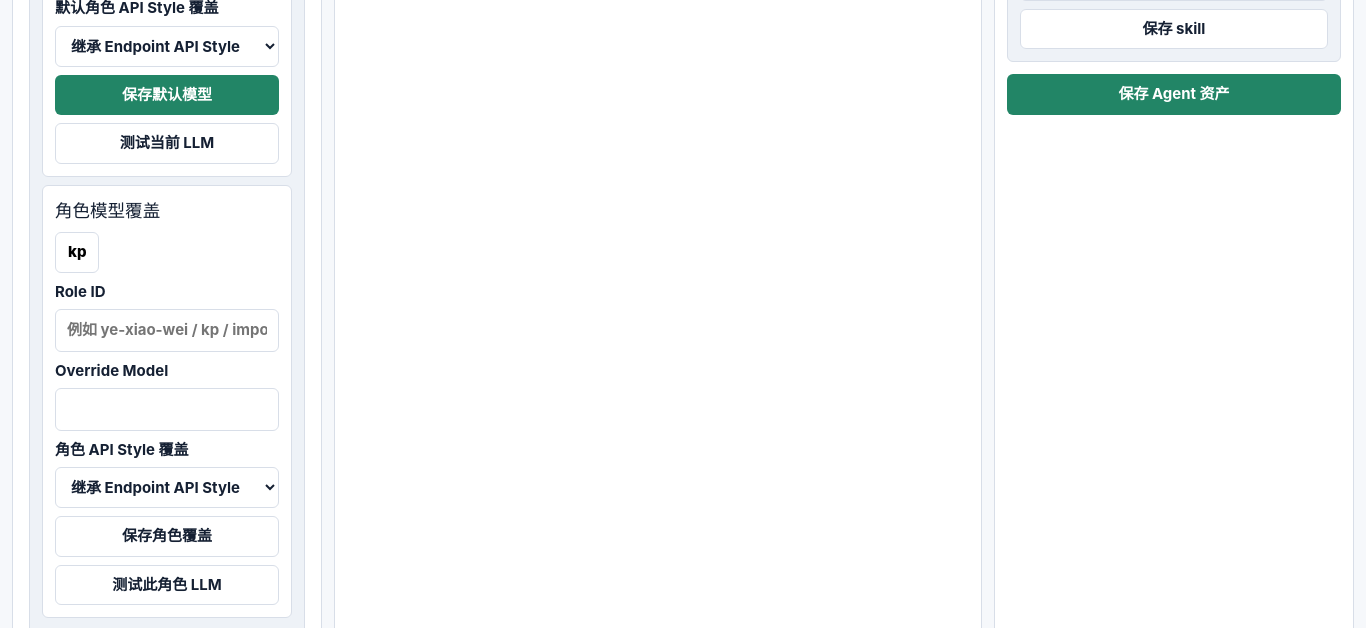
Test: SettingsView › runs role-specific healthcheck and shows the resolved override result
(page scrolled)
Click the button with test id "llm-role-pick-button".
click(77, 252)  # box 55,232 -> 100,272
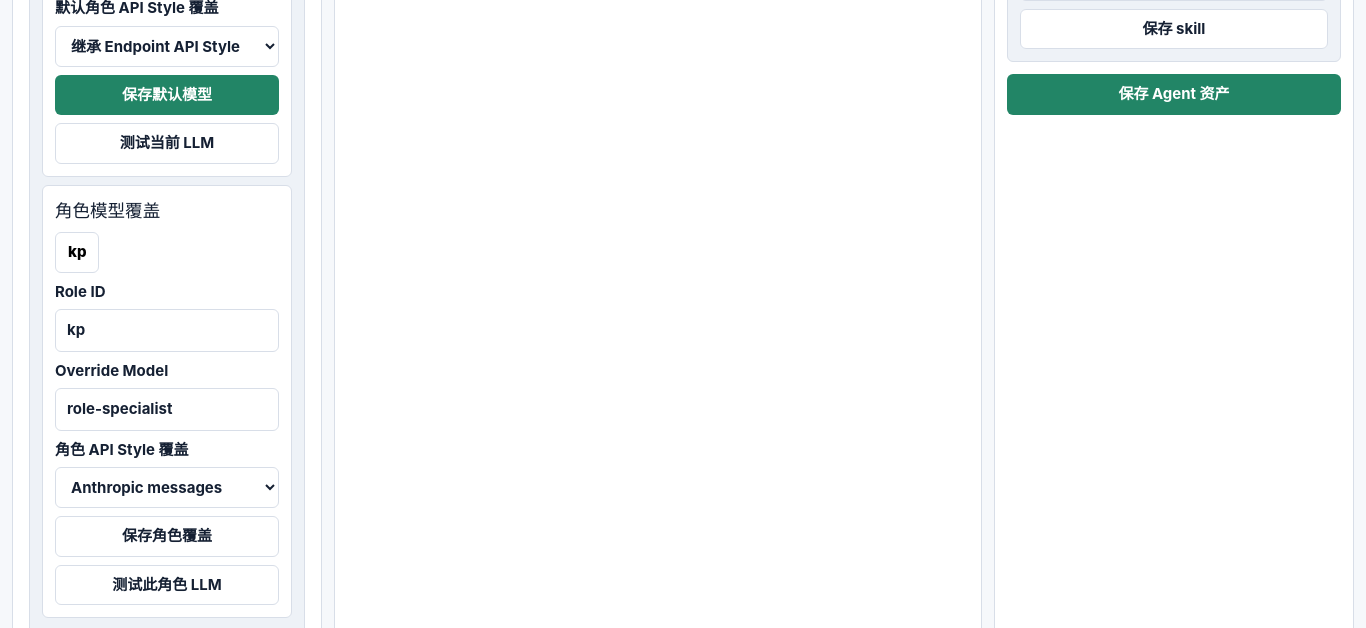
Check: the field with test id "llm-role-id-input" holds "kp", box 55,309 -> 279,352
Check: the field with test id "llm-role-model-input" holds "role-specialist", box 55,388 -> 279,430
Check: the dropdown with test id "llm-role-style-select" shows "Anthropic messages", box 55,467 -> 279,508
Click the button with test id "test-role-llm-button".
click(167, 585)  # box 55,564 -> 279,605
(page scrolled)
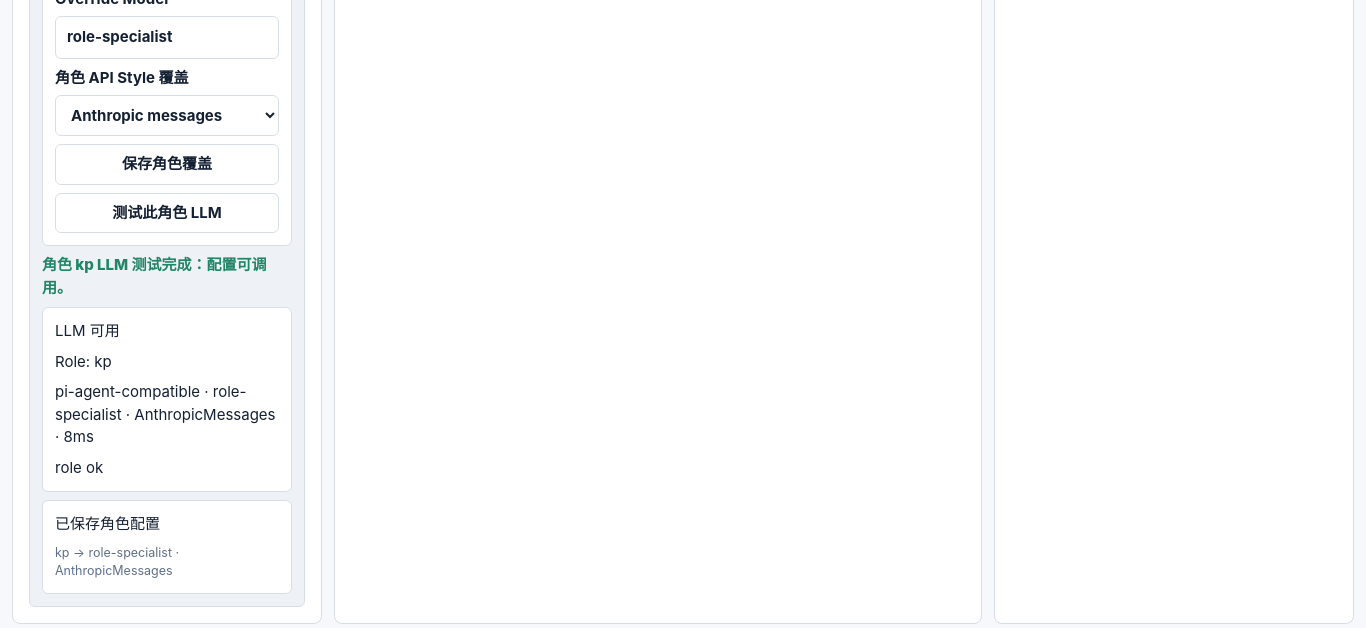
Check: the message with test id "llm-config-status" shows "角色 kp LLM 测试完成", box 42,255 -> 266,296
Check: the element with test id "llm-health-result" shows "Role: kp", box 55,352 -> 112,370
Check: the element with test id "llm-health-result" shows "role-specialist", box 55,382 -> 276,446
